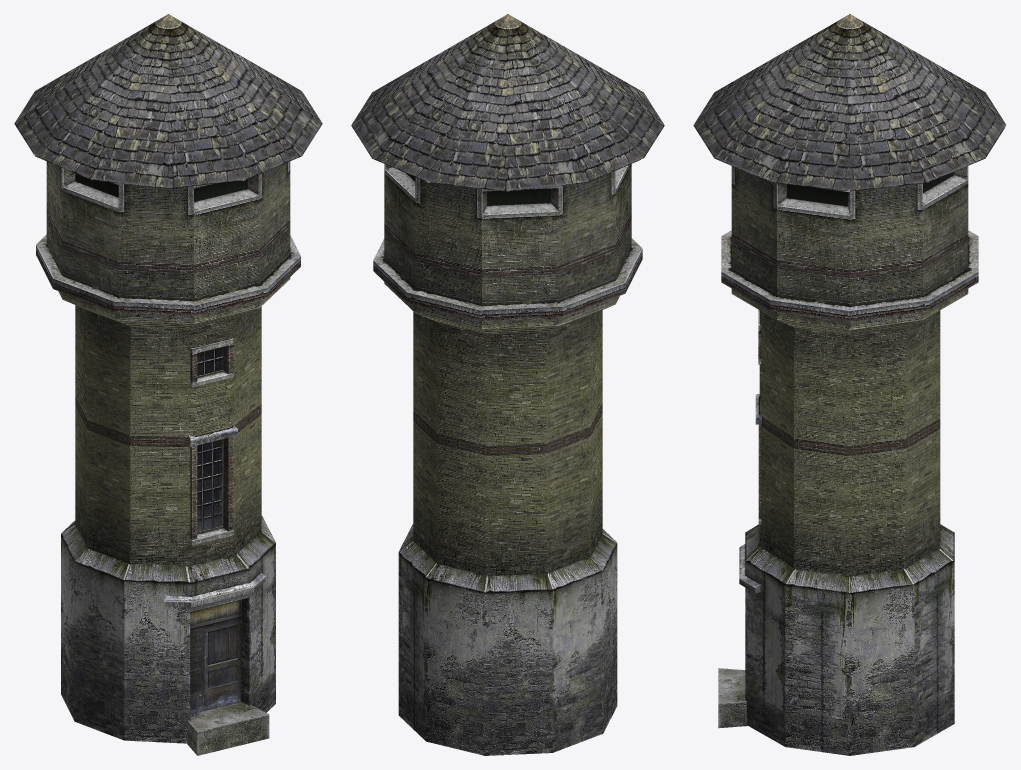
The picture shows the model from 3 angles, left to right: view 1: azimuth 30°, elevation 25°; view 2: azimuth 150°, elevation 25°; view 3: azimuth 270°, elevation 25°; orthographic projection.
Parts seen in each view (by area): view 1: b13; view 2: b13; view 3: b13.
Boxes of the visible parts, x1,y1,x2,y2 form: b13: [14, 14, 322, 755]; b13: [351, 14, 664, 755]; b13: [693, 14, 1006, 755].
Size of the model in its own units: 8.7 by 21.34 by 8.7.
1 material, 1 textured.
